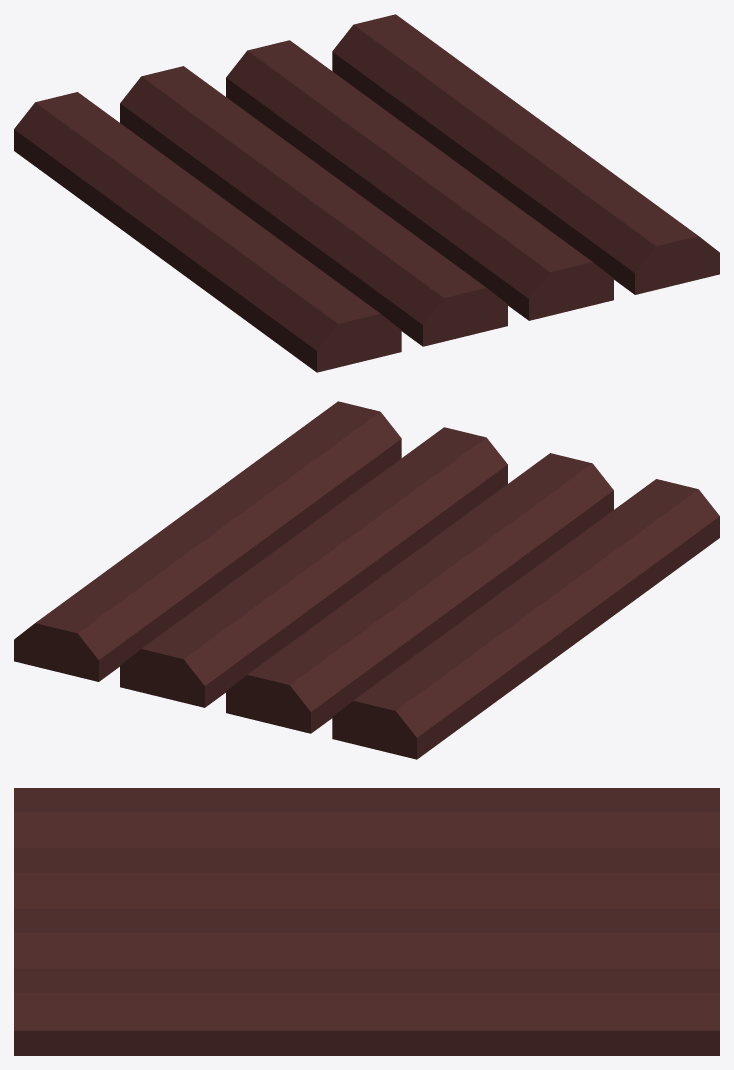
Rendered from tfQuadCable.fbx.
3 views of the same model, one above another, from view 1: azimuth 30°, elevation 25°; view 2: azimuth 150°, elevation 25°; view 3: azimuth 270°, elevation 25° (orthographic). The views are drawn at different scales.
Parts seen in each view (by area): view 1: pCube14; view 2: pCube14; view 3: pCube14.
Part boxes in pixels (x1,y1,x2,y2): pCube14: (14, 14, 719, 372); pCube14: (14, 401, 719, 759); pCube14: (14, 788, 719, 1055).
Bounding box in the file's own units: 154 × 15.84 × 200.
